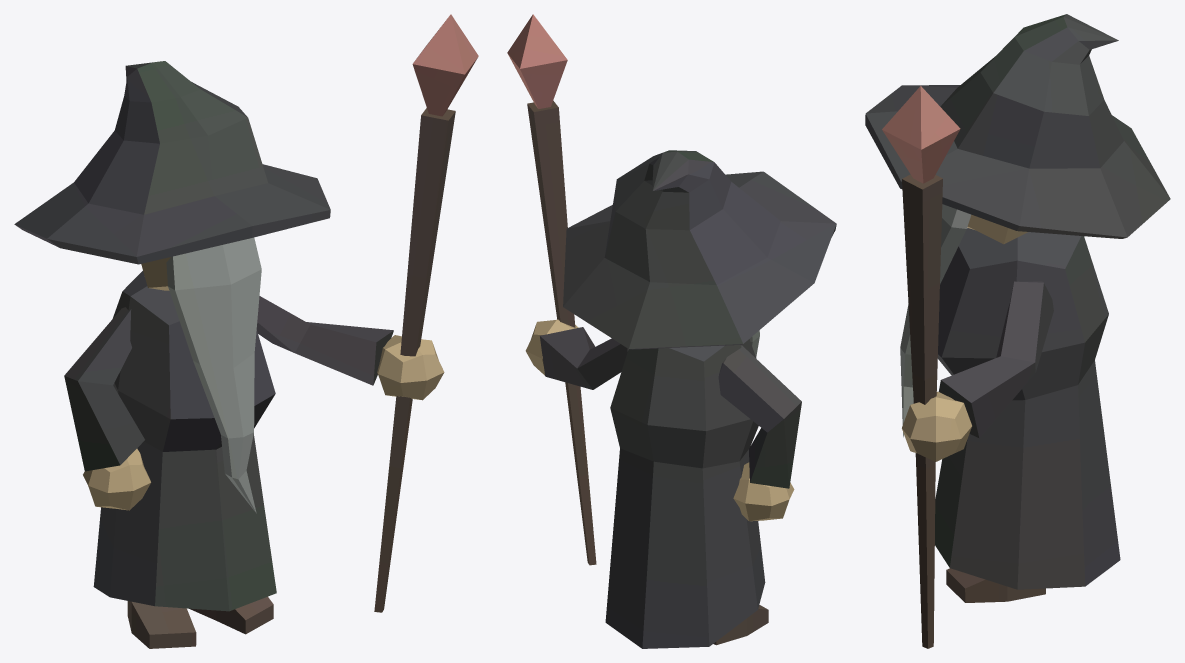
File: wizard-transformed.glb
3 views of the same model, side by side, from view 1: azimuth 30°, elevation 25°; view 2: azimuth 150°, elevation 25°; view 3: azimuth 270°, elevation 25° (orthographic). The views are drawn at different scales.
Visible parts, largest first — view 1: Cube.002_0; view 2: Cube.002_0; view 3: Cube.002_0.
Part boxes in pixels (<box>): Cube.002_0: <box>14,14,478,648</box>; Cube.002_0: <box>507,14,836,648</box>; Cube.002_0: <box>865,14,1170,648</box>.
Size of the model in its own units: 1.45 by 2.1 by 0.9773.
1 material, 1 textured.
